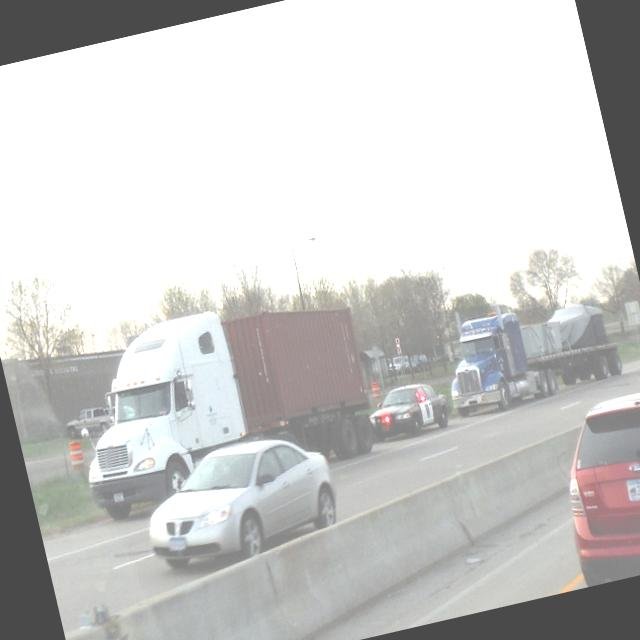Vehicle: (54, 277, 386, 526), (130, 421, 346, 580), (430, 274, 626, 422), (543, 380, 640, 586), (364, 374, 456, 450), (62, 400, 114, 440), (387, 354, 411, 376), (410, 351, 430, 372)
